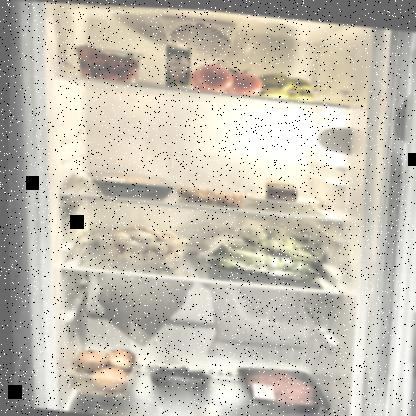banana: (256, 67, 318, 101)
blueberries: (144, 358, 212, 394)
cheese: (256, 171, 299, 202)
green_beans: (211, 213, 328, 263)
ground_beef: (230, 360, 327, 413)
heavy_cream: (163, 38, 195, 88)
mushrooms: (97, 217, 189, 269)
onion: (71, 342, 131, 391)
shrimp: (174, 181, 248, 204)
spinach: (194, 227, 325, 281)
strawberries: (70, 41, 147, 80)
tomato: (189, 54, 267, 96)
